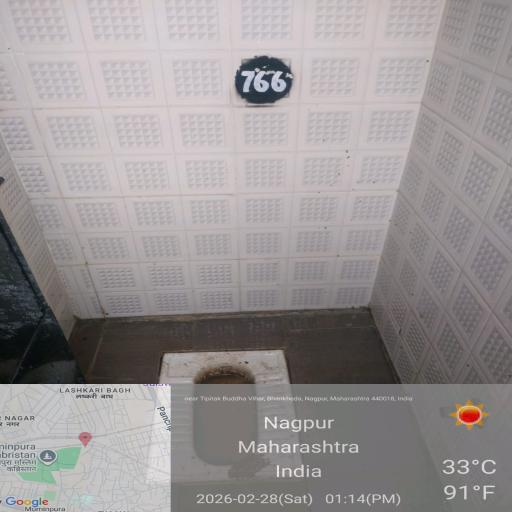clean_floor: (20, 22, 512, 306)
dirty_indian: (92, 315, 402, 512)
